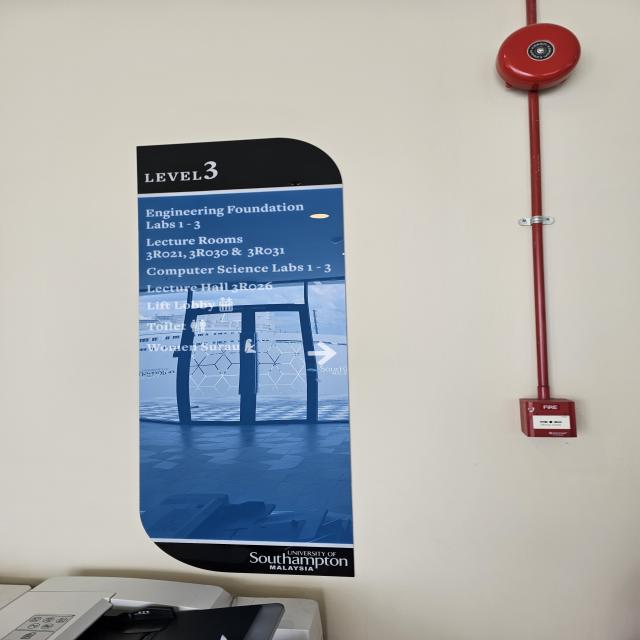obstacle: (5, 581, 354, 640)
